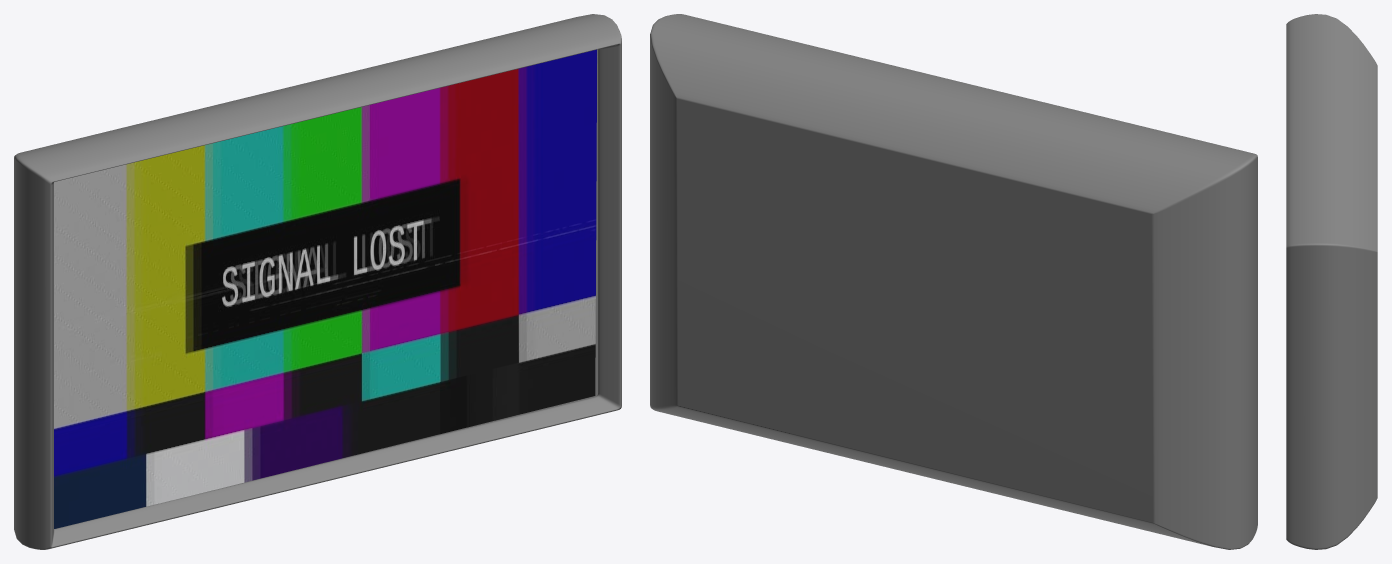
Rendered from Television.fbx.
3 views of the same model, side by side, from view 1: azimuth 30°, elevation 25°; view 2: azimuth 150°, elevation 25°; view 3: azimuth 270°, elevation 25° (orthographic). The views are drawn at different scales.
Visible parts, largest first — view 1: Television01; view 2: Television01; view 3: Television01.
Boxes of the visible parts, left/top/right/bottom form: Television01: left=14, top=14, right=621, bottom=549; Television01: left=650, top=14, right=1257, bottom=549; Television01: left=1286, top=14, right=1377, bottom=549.
Size of the model in its own units: 4.86 by 0.8156 by 3.01.
Materials: 2 (1 with a texture image).
